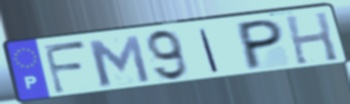9: (145, 29, 190, 83)
F: (41, 40, 90, 96)
H: (283, 10, 341, 67)
I: (197, 27, 222, 74)
M: (84, 33, 153, 88)
P: (237, 17, 285, 73)
